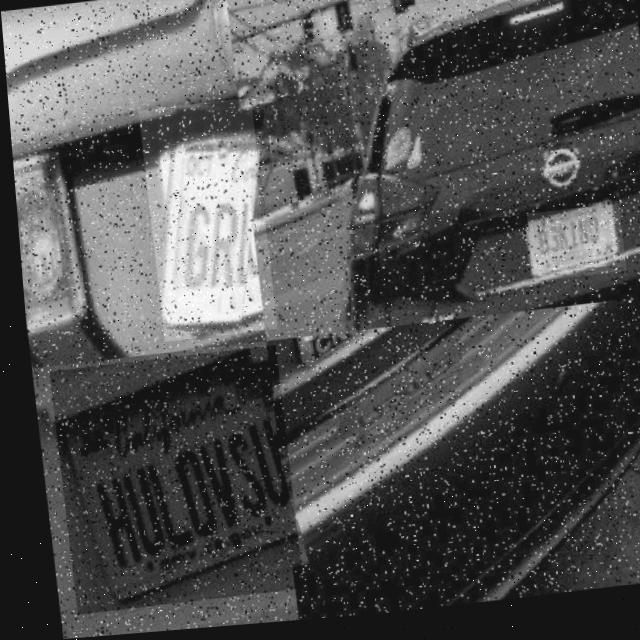LicensePlate: (42, 349, 294, 616), (135, 101, 272, 344), (523, 214, 620, 290)
